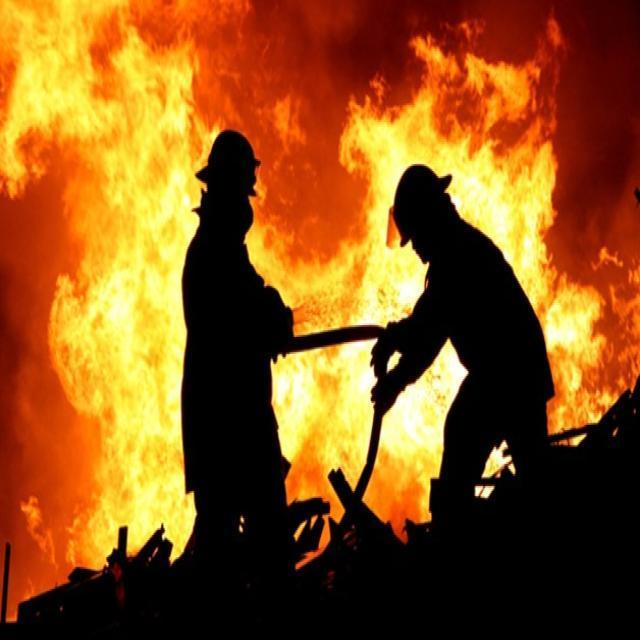Fire: (2, 0, 640, 567)
